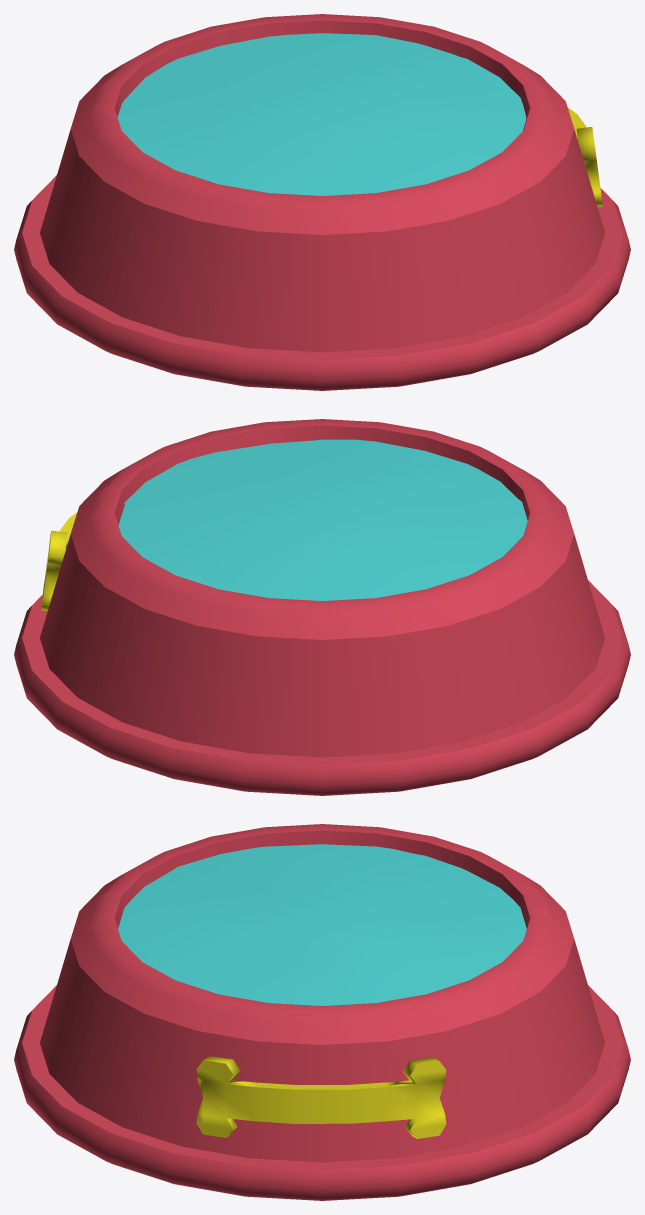
Rendered from pote_agua.fbx.
3 views of the same model, one above another, from view 1: azimuth 30°, elevation 25°; view 2: azimuth 150°, elevation 25°; view 3: azimuth 270°, elevation 25° (orthographic).
Visible parts, largest first — view 1: Cylinder; view 2: Cylinder; view 3: Cylinder.
Part boxes in pixels (left/top/right/bottom): Cylinder: left=14, top=14, right=630, bottom=390; Cylinder: left=14, top=419, right=630, bottom=795; Cylinder: left=14, top=824, right=630, bottom=1200.
Bounding box in the file's own units: 218 × 61.77 × 218.
